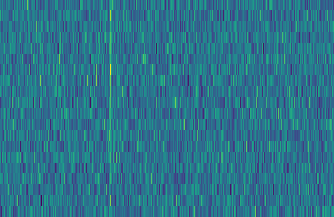signal: (103, 0, 112, 217)
